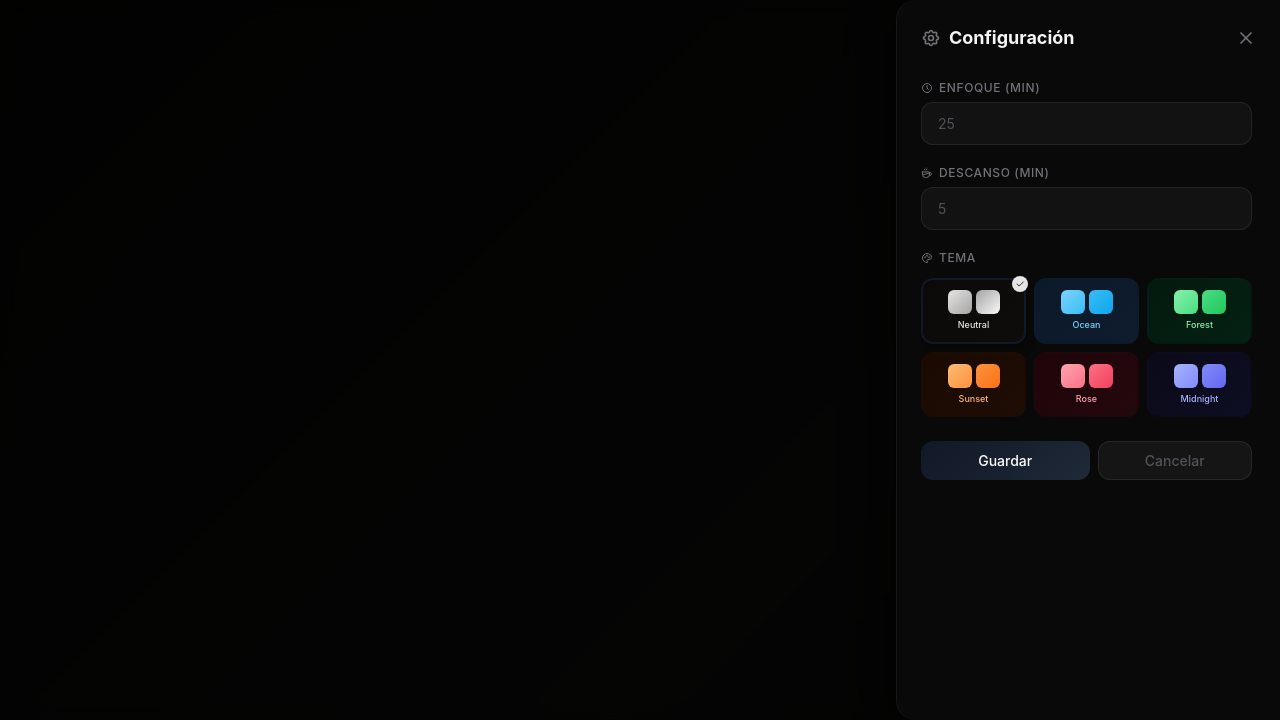
Scenario: Panels presented as drawers › SettingsPanel keeps the previous value when a field is saved empty
Step 1. Clear the field labelled "Enfoque (min)" → (1086, 124), box left=921, top=102, right=1252, bottom=145
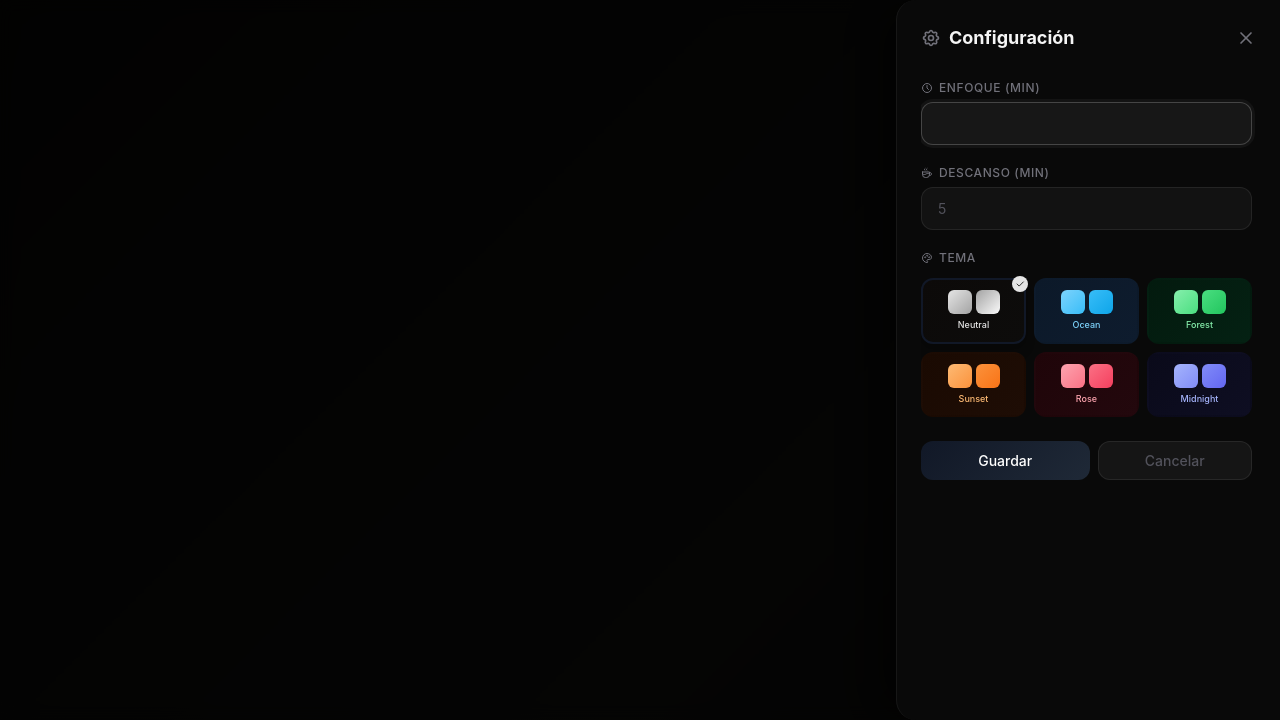
Step 2. Click the button "Guardar" → (1005, 460), box left=921, top=441, right=1090, bottom=480
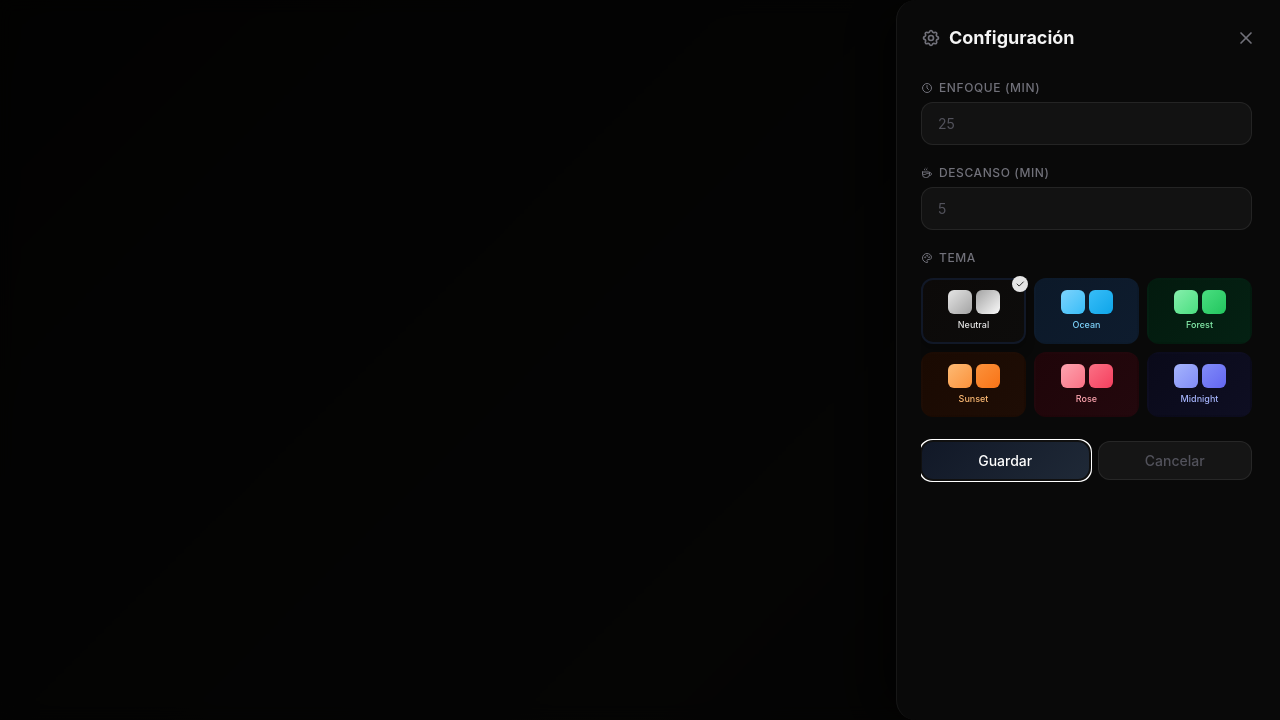
Expected: the field labelled "Enfoque (min)" holds "25", left=921, top=102, right=1252, bottom=145
